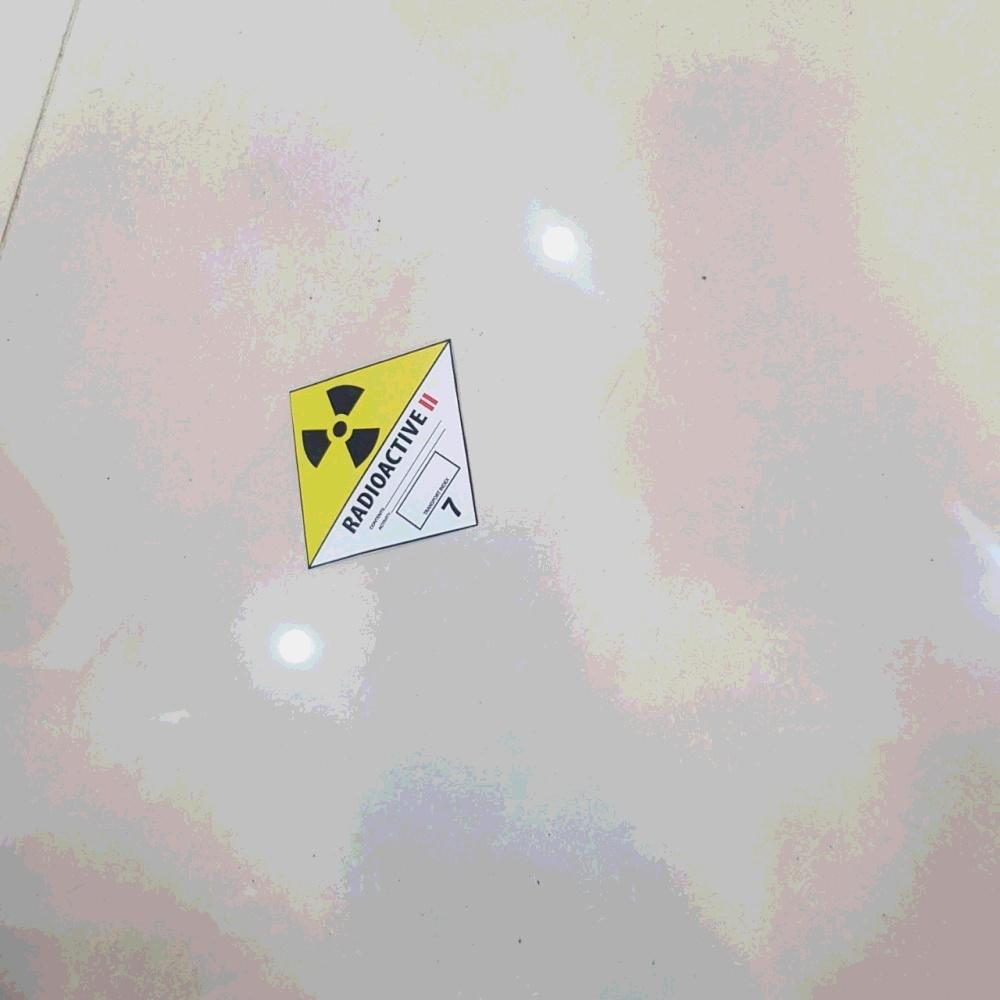radioactive: (285, 334, 482, 572)
